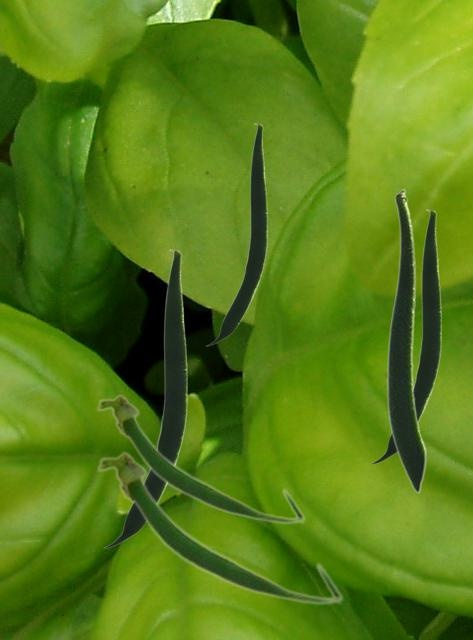french_bean: (95, 449, 343, 605), (95, 392, 305, 524), (103, 249, 186, 547), (370, 209, 440, 463), (205, 123, 266, 345), (386, 188, 426, 493)
